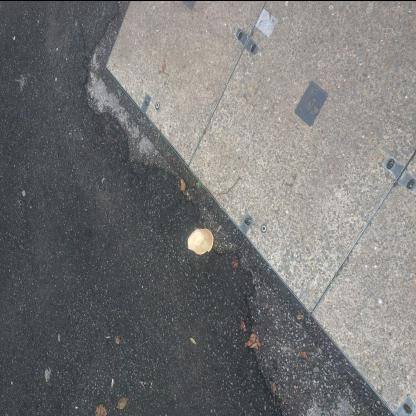plastik: (188, 228, 215, 255)
